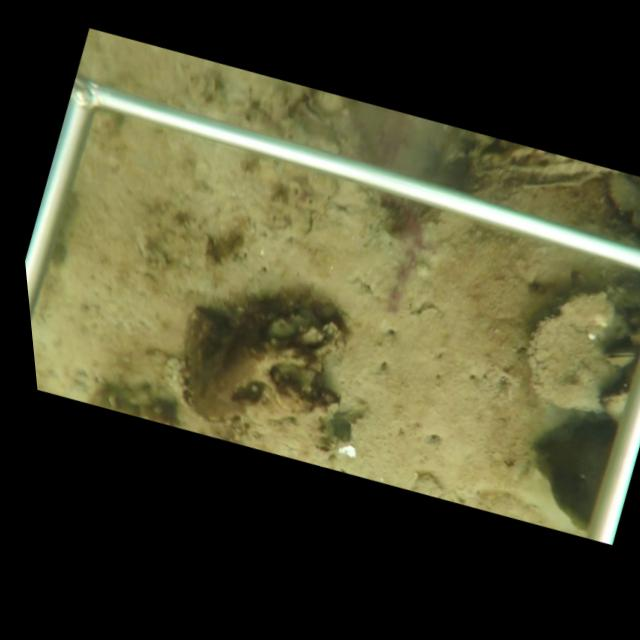Oyster-Closed: (526, 291, 634, 416), (606, 348, 635, 367)
